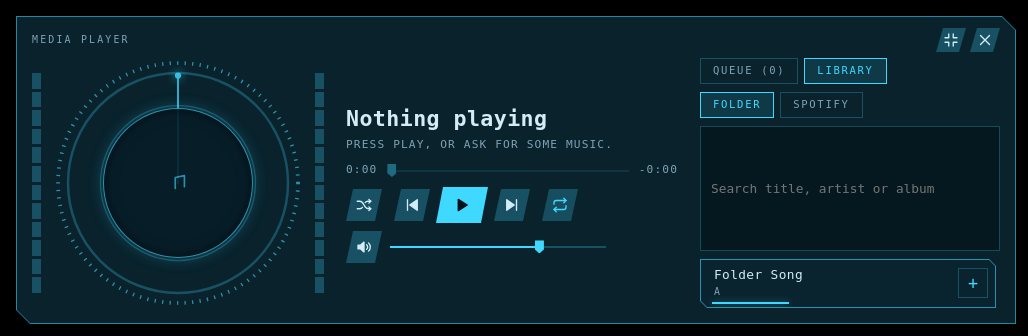
Test: sources in the player › asks for a word before searching Spotify, and a free account is told plainly
Click the tab "Library".
click(846, 71)  # box [804, 58, 887, 84]
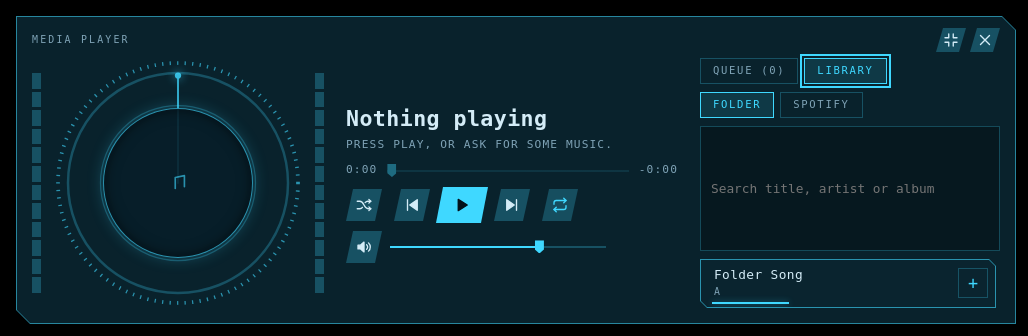
Click the tab "Spotify".
click(821, 105)  # box [780, 92, 863, 118]
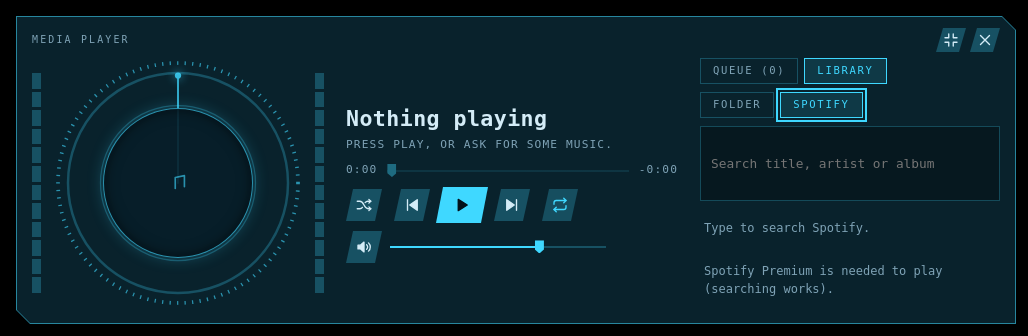
Now the list item "Type to search Spotify." is shown, box [704, 221, 870, 235]
Now the list item "Spotify Premium is needed to play (searching works)." is shown, box [704, 264, 942, 296]
